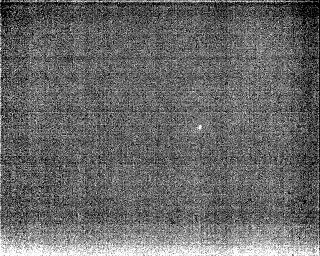BIRD: (196, 122, 204, 133)
